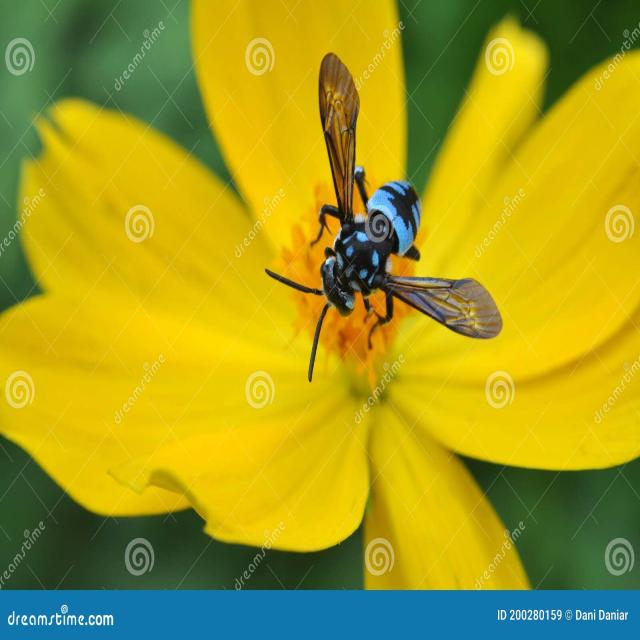Thyreus: (264, 45, 506, 407)
